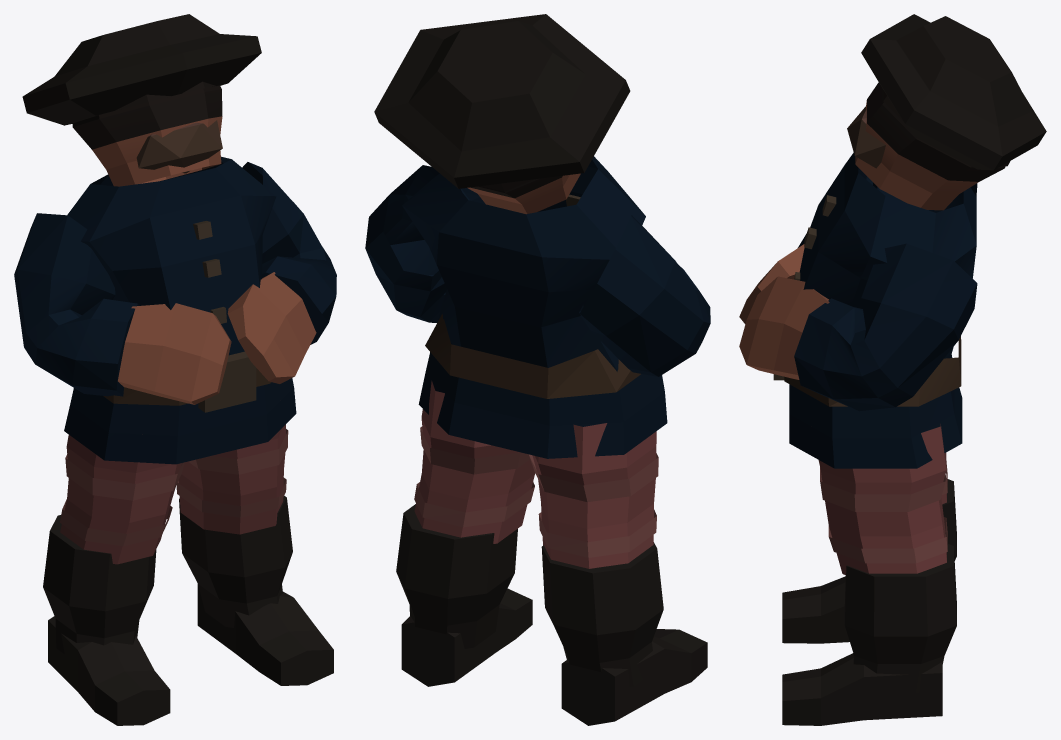
Rendered from pirate.glb.
The picture shows the model from 3 angles, left to right: view 1: azimuth 30°, elevation 25°; view 2: azimuth 150°, elevation 25°; view 3: azimuth 270°, elevation 25°; orthographic projection. The views are drawn at different scales.
Visible parts, largest first — view 1: Stocky Pirate Deckhand (light) still; view 2: Stocky Pirate Deckhand (light) still; view 3: Stocky Pirate Deckhand (light) still.
Boxes of the visible parts, x1,y1,x2,y2 form: Stocky Pirate Deckhand (light) still: (14,14,336,725); Stocky Pirate Deckhand (light) still: (365,14,710,725); Stocky Pirate Deckhand (light) still: (739,14,1046,725).
Bounding box in the file's own units: 0.9188 × 1.83 × 0.7831.
